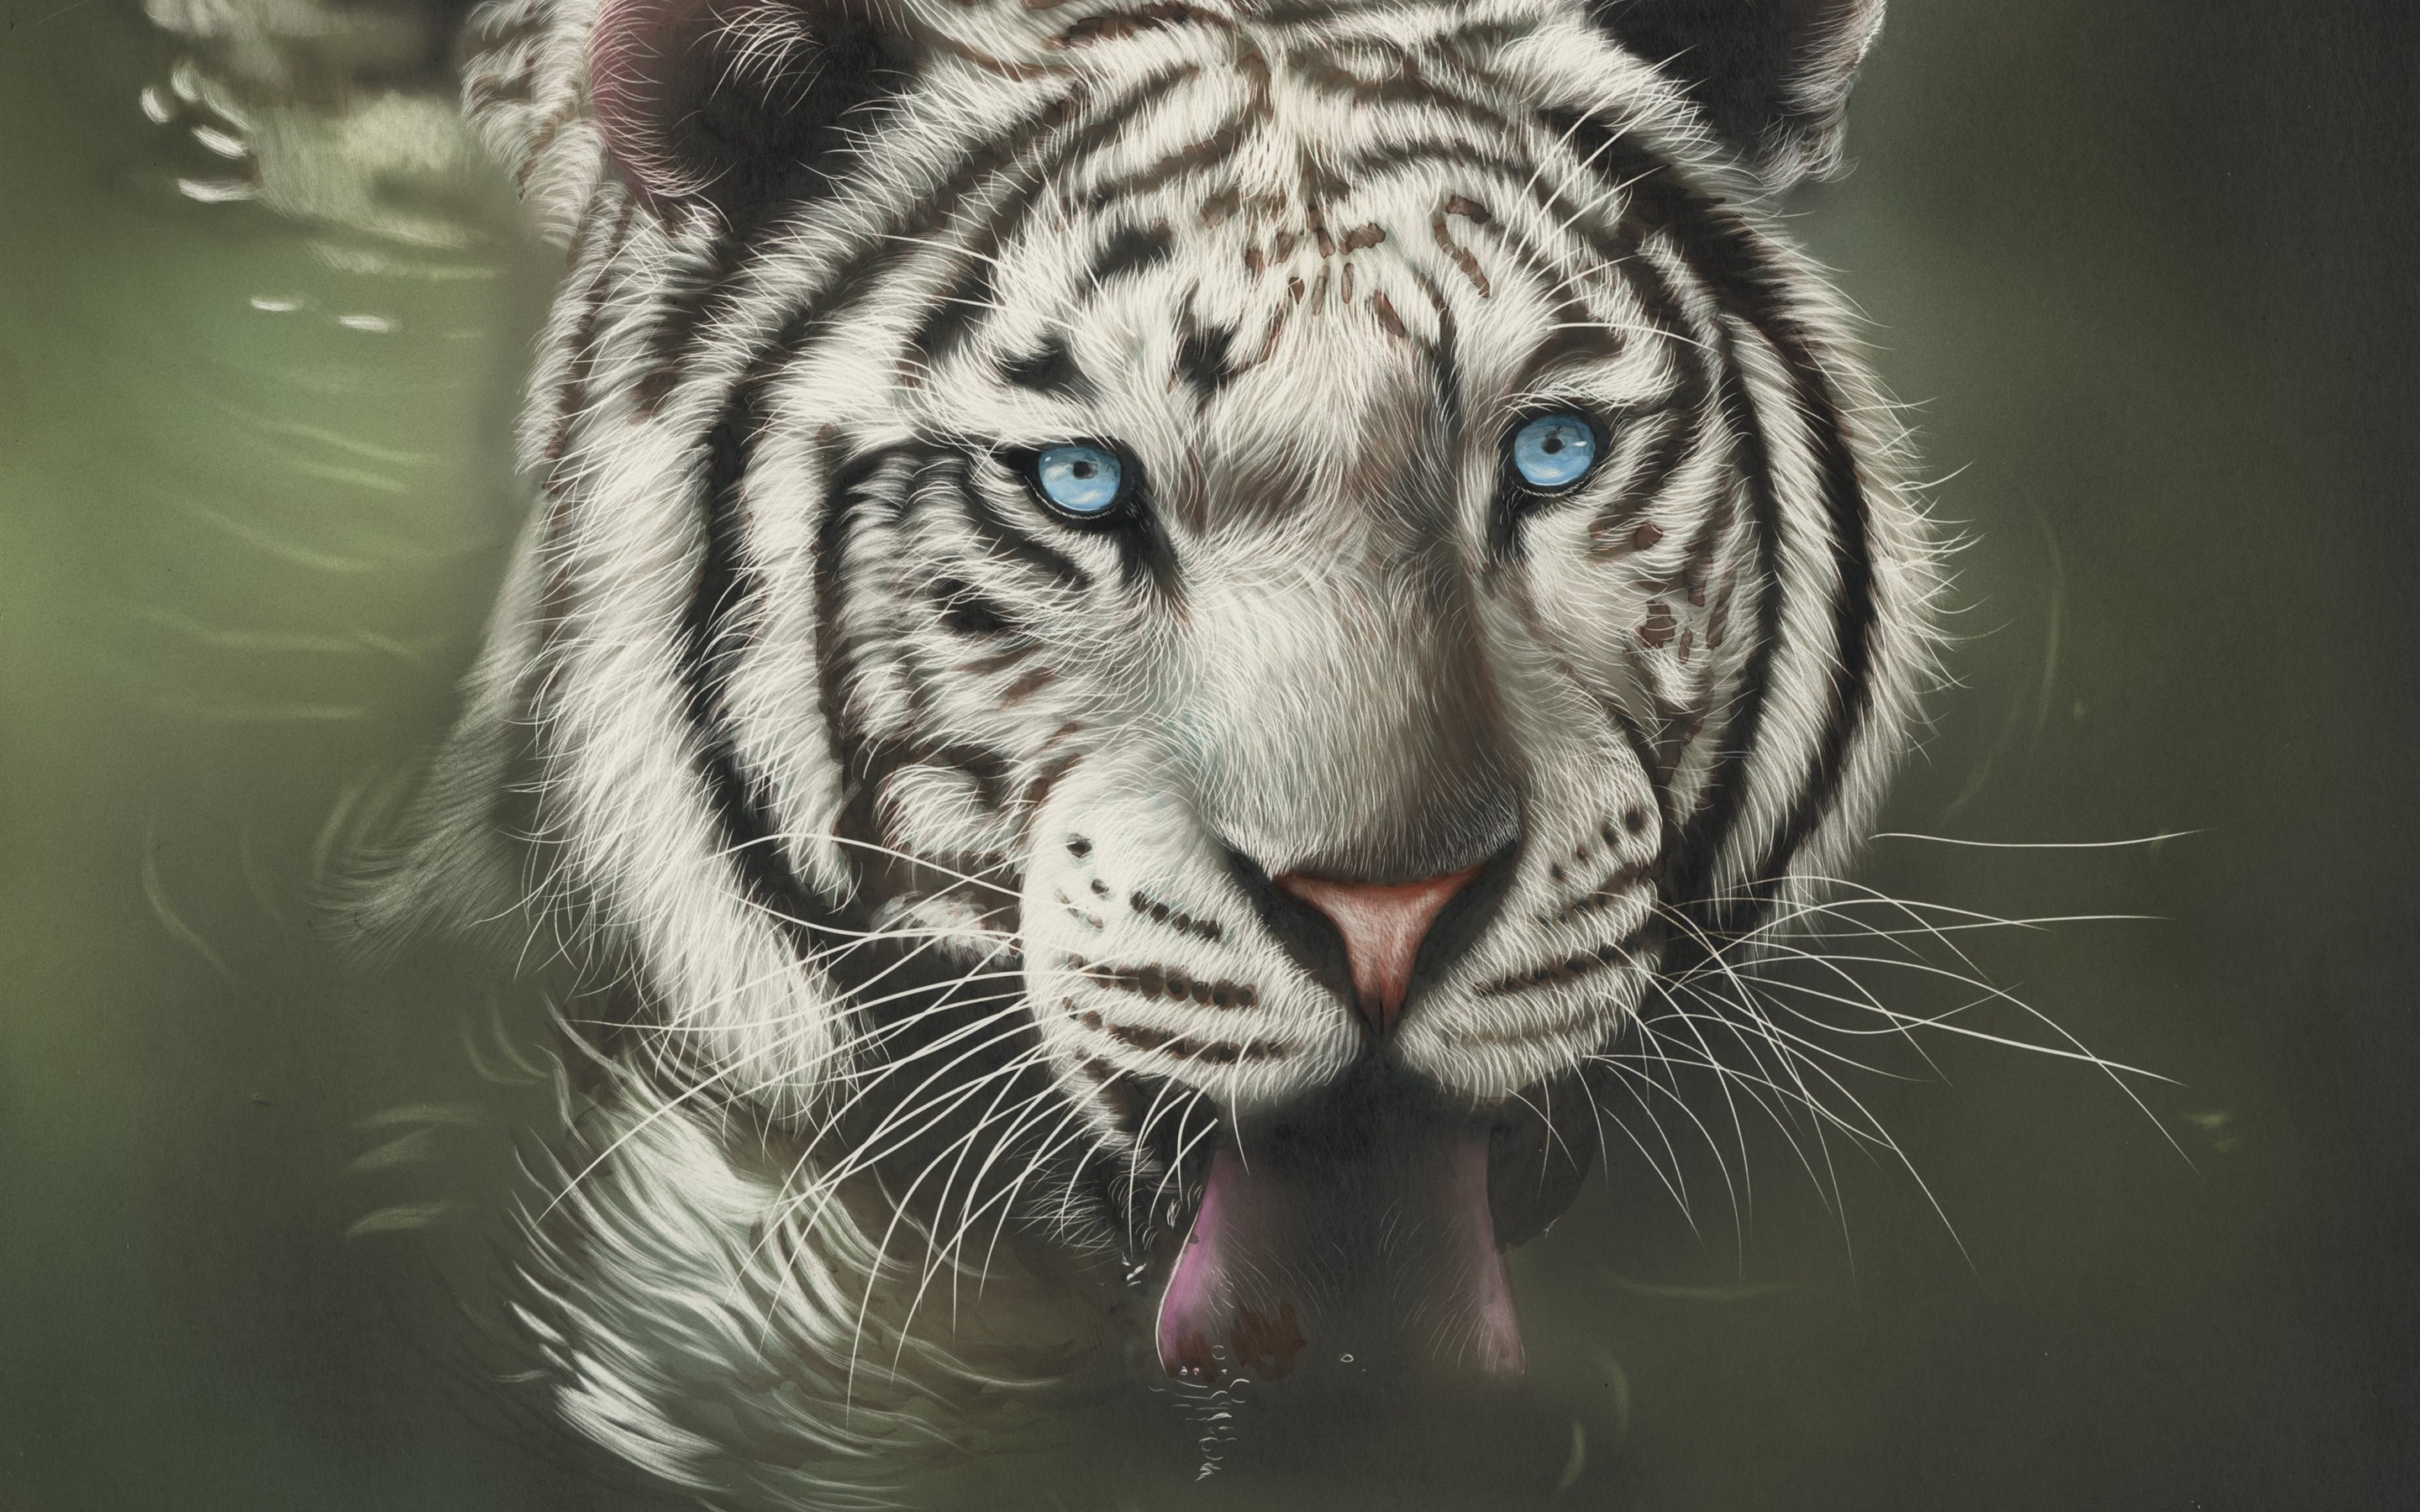Tigrew: (415, 28, 2141, 1397)
